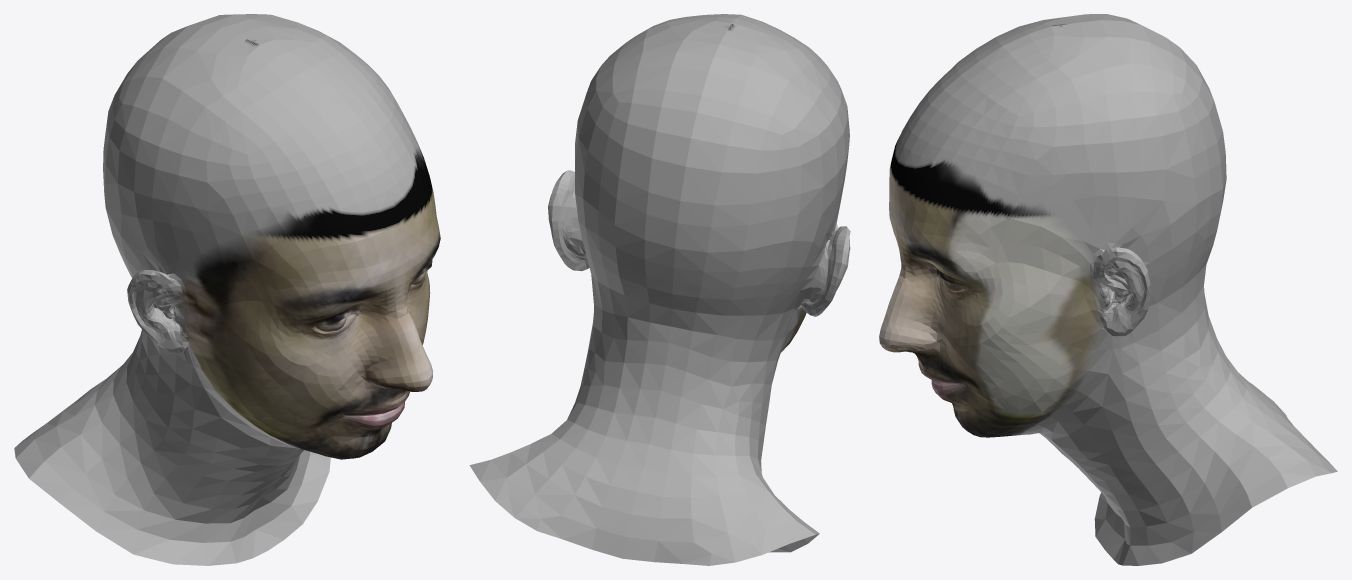
Rendered from ezgif-frame-033.obj.
3 views of the same model, side by side, from view 1: azimuth 30°, elevation 25°; view 2: azimuth 150°, elevation 25°; view 3: azimuth 270°, elevation 25° (orthographic). The views are drawn at different scales.
Size of the model in its own units: 0.2027 by 0.3272 by 0.2641.
1 material, 1 textured.
